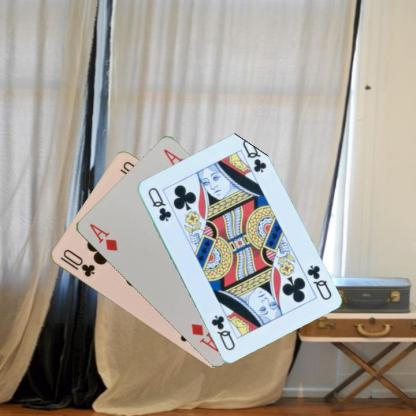10c: (60, 246, 96, 279)
Ad: (86, 221, 119, 252)
Qc: (304, 262, 333, 302), (144, 184, 173, 222)
